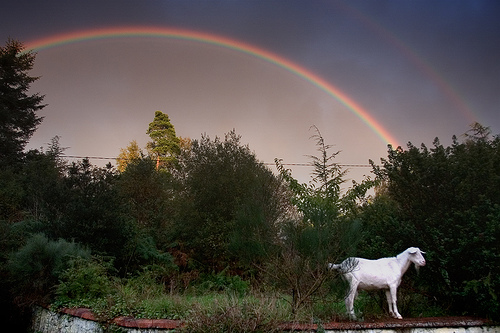goat: (328, 244, 427, 324)
